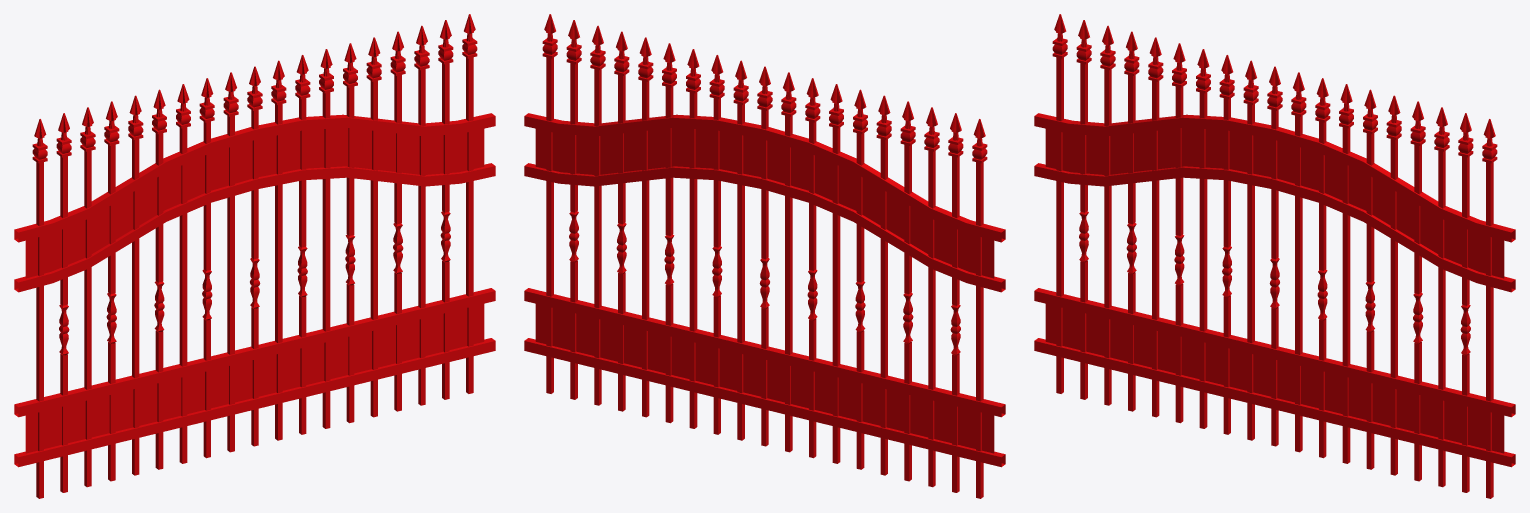
Rendered from SM_fence_long.fbx.
The picture shows the model from 3 angles, left to right: view 1: azimuth 30°, elevation 25°; view 2: azimuth 150°, elevation 25°; view 3: azimuth 330°, elevation 25°; orthographic projection.
Parts seen in each view (by area): view 1: fence_long, fence_long.001; view 2: fence_long, fence_long.001; view 3: fence_long, fence_long.001.
Part boxes in pixels (left/top/right/bottom): fence_long: left=14, top=14, right=495, bottom=498; fence_long.001: left=25, top=127, right=484, bottom=453; fence_long: left=524, top=14, right=1005, bottom=498; fence_long.001: left=535, top=127, right=994, bottom=453; fence_long: left=1034, top=14, right=1515, bottom=498; fence_long.001: left=1045, top=127, right=1504, bottom=453.
Size of the model in its own units: 200 by 152 by 4.53.
